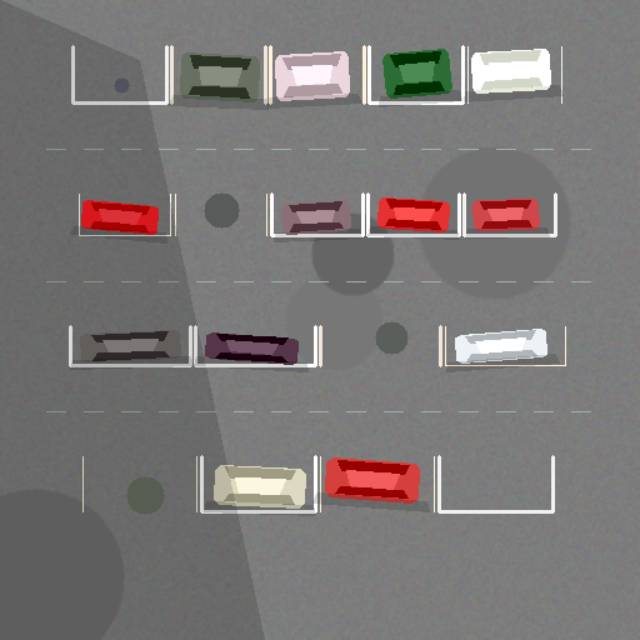space-empty: (82, 456, 196, 511), (439, 456, 552, 511), (72, 46, 166, 103), (320, 326, 440, 365), (175, 194, 266, 235)
space-occupied: (201, 456, 315, 511), (320, 456, 434, 511), (171, 46, 265, 103), (270, 46, 364, 103), (369, 46, 462, 103), (468, 46, 561, 103), (70, 326, 190, 365), (195, 326, 315, 365), (445, 326, 565, 365), (79, 194, 170, 235), (271, 194, 362, 235), (368, 194, 459, 235), (464, 194, 555, 235)
